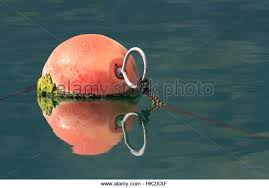buoy: (41, 33, 140, 97)
